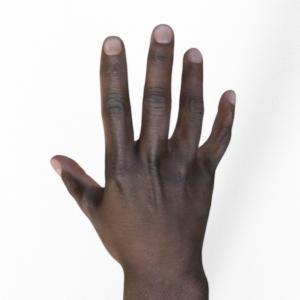paper: (51, 25, 235, 300)
